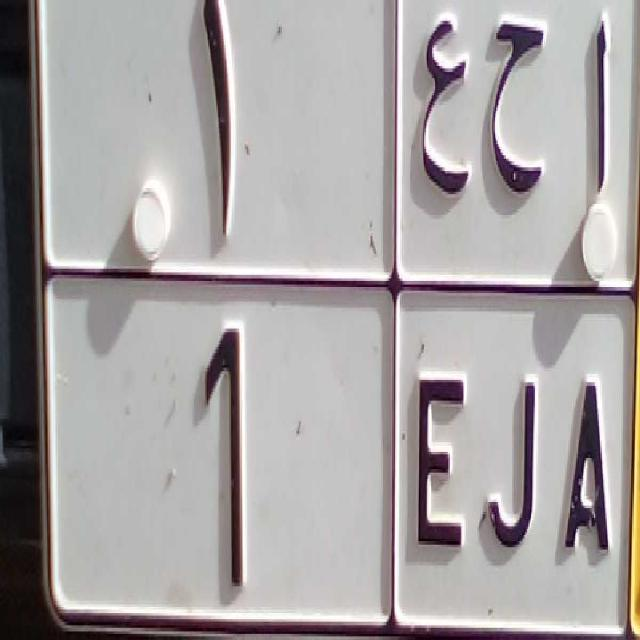license_plate: (40, 264, 636, 640)
